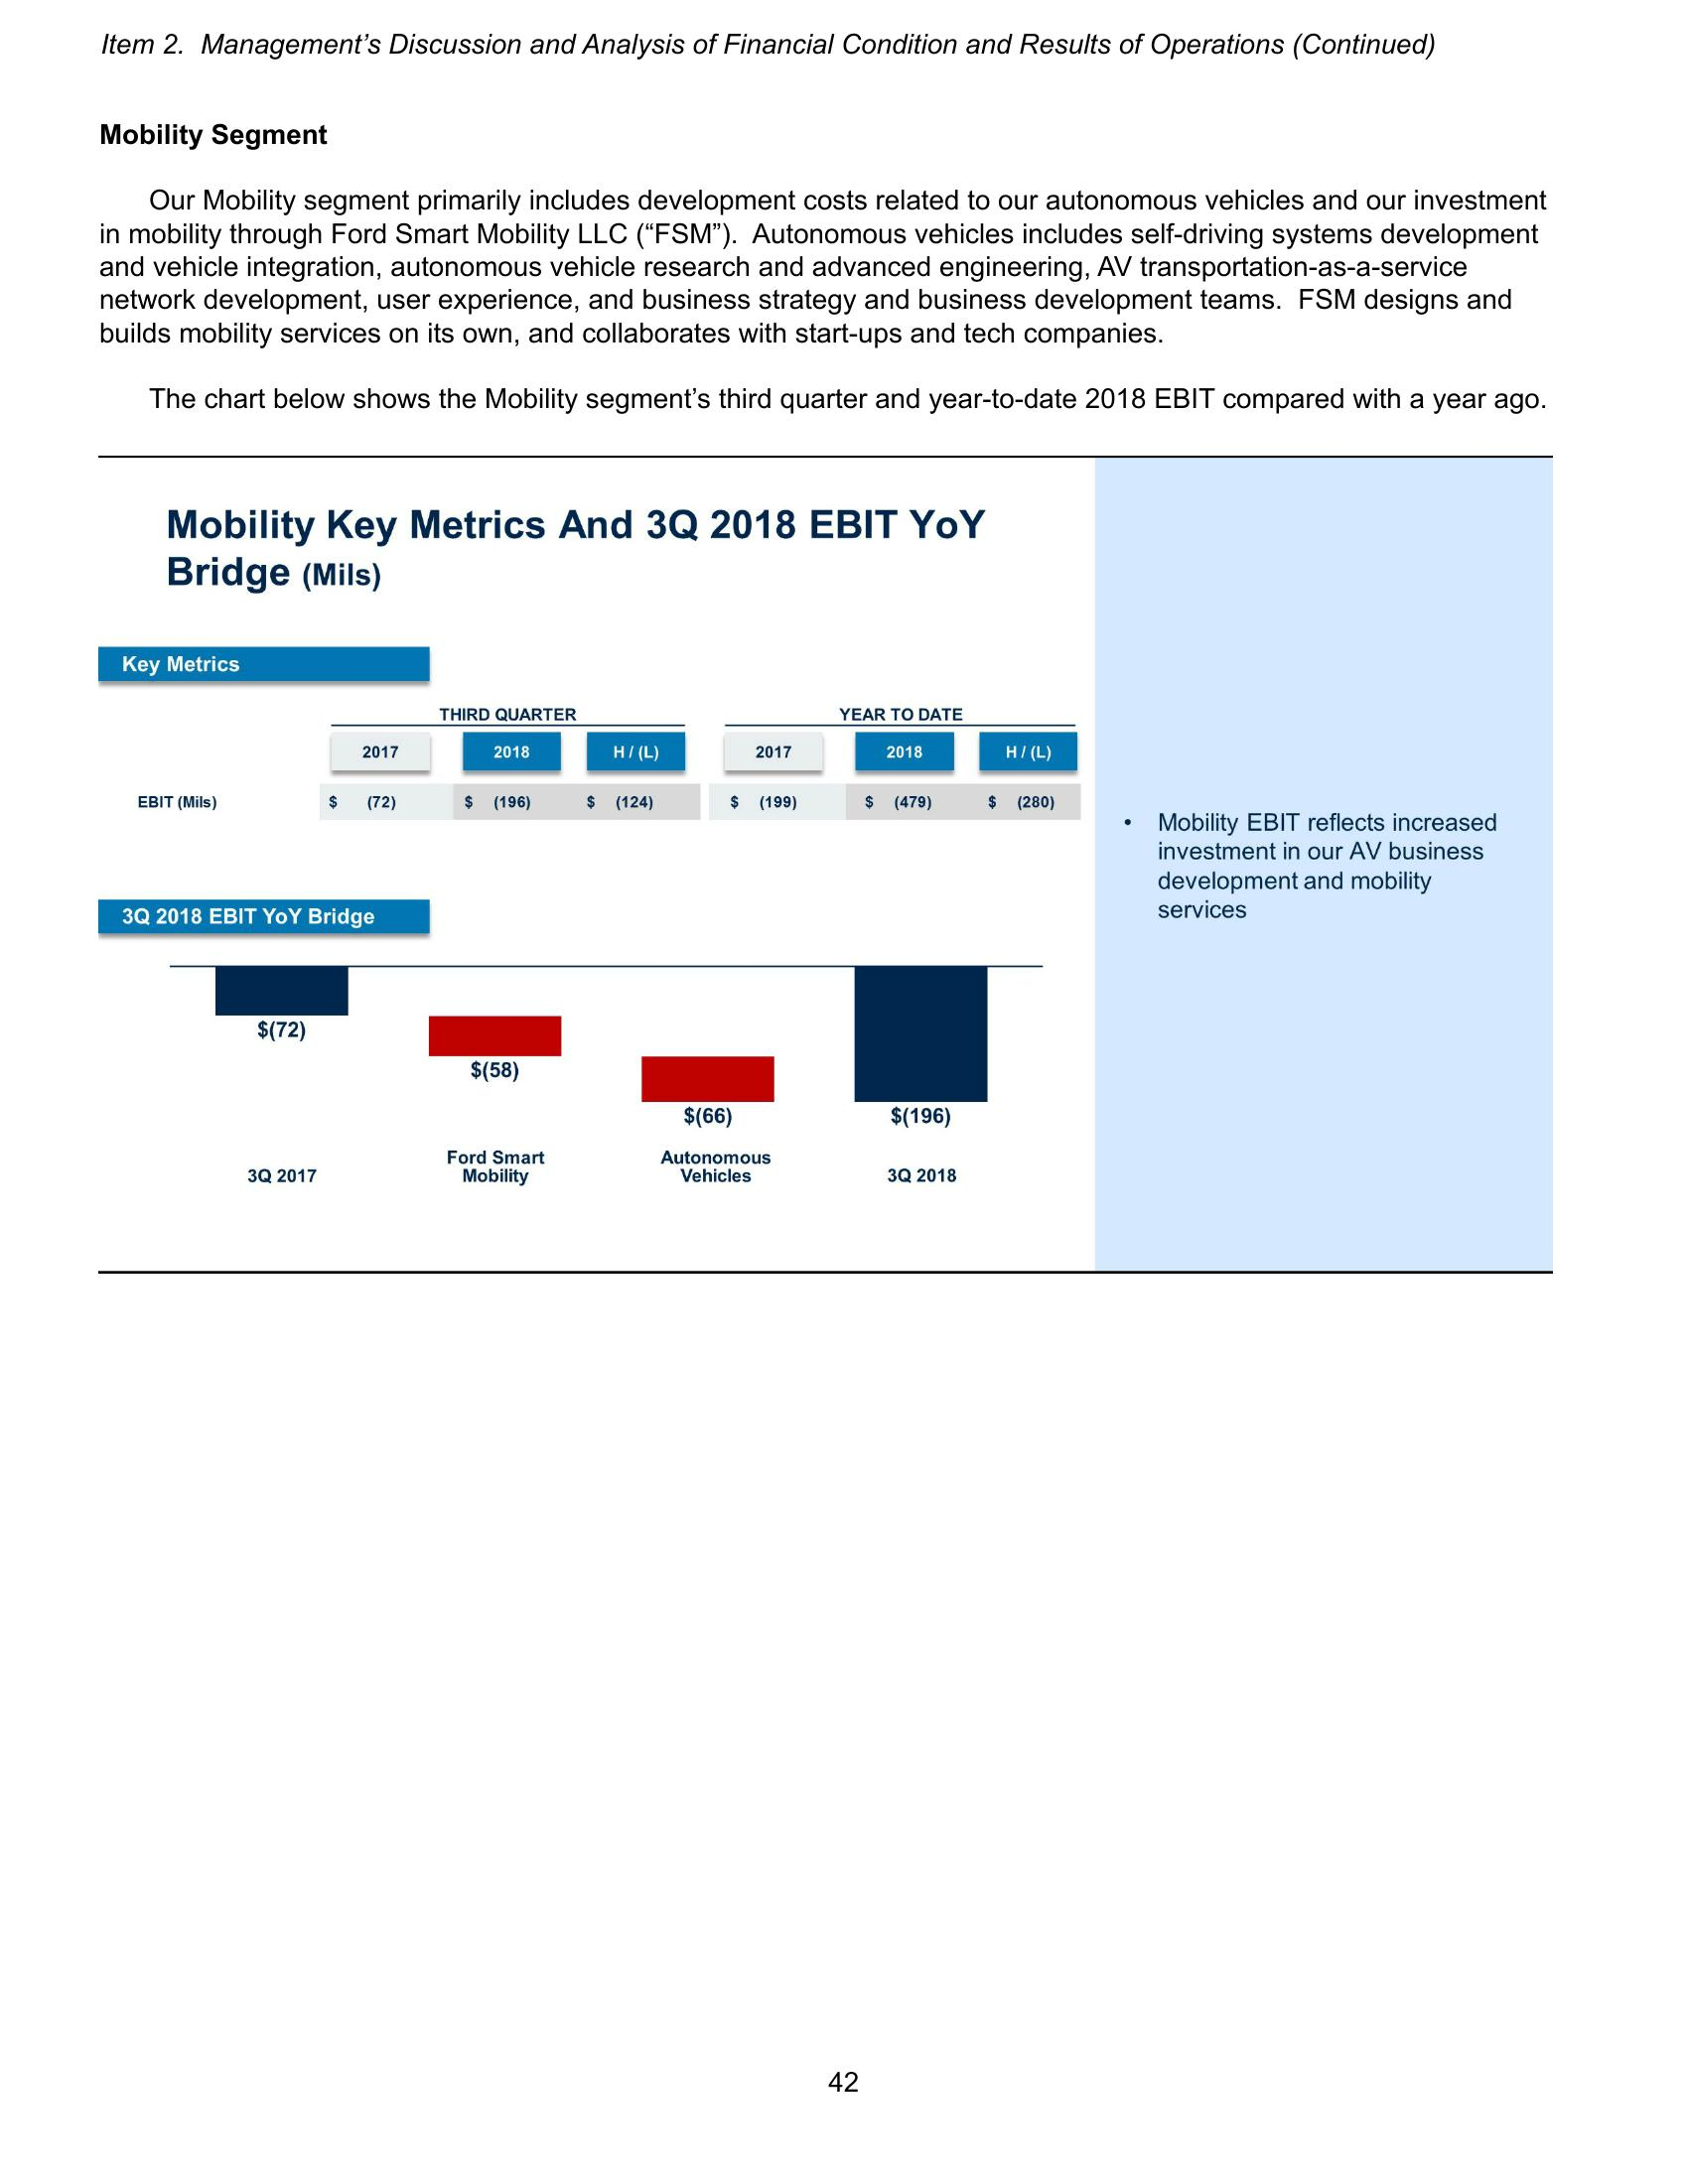table: (137, 697, 1087, 824)
